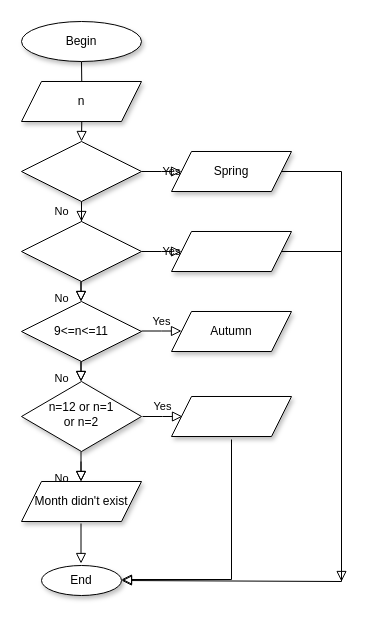
Image size: 369x620. Some labels were removed from this diagram. The centre of each missing label's shape, as x and y in pixels:
"3<=n<=5" goes at (82,172).
"6<=n<=8" goes at (82,252).
"Summer" goes at (232,252).
"Winter" goes at (232,418).
